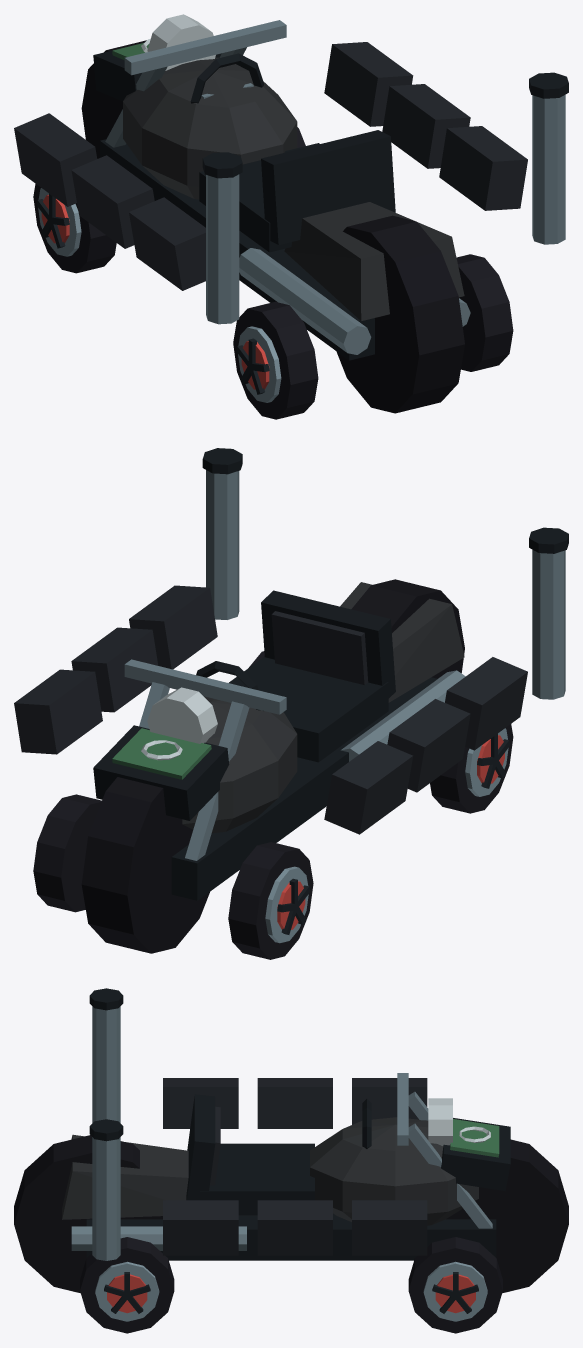
Rendered from kart.glb.
The picture shows the model from 3 angles, top to bottom: view 1: azimuth 30°, elevation 25°; view 2: azimuth 150°, elevation 25°; view 3: azimuth 270°, elevation 25°; orthographic projection. The views are drawn at different scales.
Visible parts, largest first — view 1: identity-motorbike-motorbike-tank-and-fork, identity-motorbike-motif-armor, identity-motorbike-driver-cockpit, identity-motorbike-motif-exhaust, wheel-rear-left, wheel-rear-right, wheel-front-left, identity-motorbike-motif-scanner; view 2: identity-motorbike-motorbike-tank-and-fork, identity-motorbike-motif-armor, identity-motorbike-driver-cockpit, identity-motorbike-motif-exhaust, wheel-front-left, identity-motorbike-motif-scanner, wheel-front-right, wheel-rear-left; view 3: identity-motorbike-motorbike-tank-and-fork, identity-motorbike-motif-armor, identity-motorbike-driver-cockpit, identity-motorbike-motif-exhaust, wheel-front-right, wheel-rear-right, identity-motorbike-motif-scanner.
Part boxes in pixels (x1,y1,x2,y2): identity-motorbike-motorbike-tank-and-fork: (81, 14, 470, 413); identity-motorbike-motif-armor: (14, 42, 527, 290); identity-motorbike-driver-cockpit: (190, 53, 395, 252); identity-motorbike-motif-exhaust: (202, 72, 568, 324); wheel-rear-left: (233, 301, 318, 419); wheel-rear-right: (456, 254, 513, 371); wheel-front-left: (33, 183, 116, 273); identity-motorbike-motif-scanner: (93, 38, 221, 101); identity-motorbike-motorbike-tank-and-fork: (81, 579, 465, 953); identity-motorbike-motif-armor: (14, 585, 527, 834); identity-motorbike-driver-cockpit: (196, 590, 395, 762); identity-motorbike-motif-exhaust: (202, 448, 568, 699); wheel-front-left: (228, 842, 313, 959); identity-motorbike-motif-scanner: (93, 725, 229, 820); wheel-front-right: (33, 794, 101, 912); wheel-rear-left: (430, 724, 513, 813); identity-motorbike-motorbike-tank-and-fork: (14, 1073, 568, 1293); identity-motorbike-motif-armor: (163, 1078, 427, 1255); identity-motorbike-driver-cockpit: (186, 1094, 371, 1215); identity-motorbike-motif-exhaust: (89, 988, 123, 1260); wheel-front-right: (408, 1237, 502, 1333); wheel-rear-right: (80, 1237, 174, 1333); identity-motorbike-motif-scanner: (441, 1118, 510, 1191).
Size of the model in its own units: 1.82 by 1.33 by 2.94.
